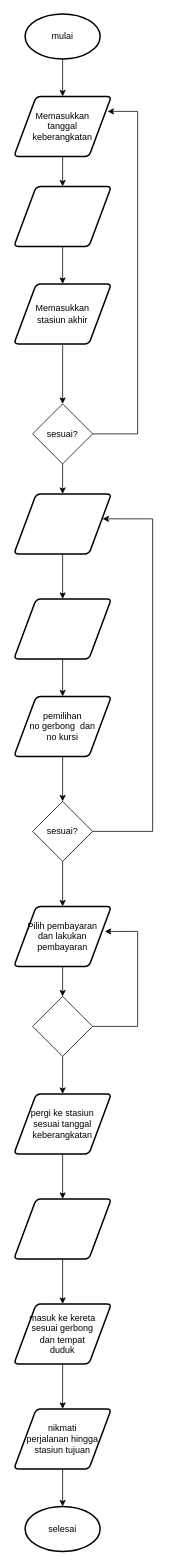
Some shapes in this 172 by 1565 pixel diagram are drawn without their labels. Here are the shapes that lost their labels. From the top down, the box of each, then its label:
(13, 185, 112, 247): Memasukkan stasiun awal
(13, 493, 112, 554): Pilihi kereta
(13, 598, 112, 659): Memasukkan data penumpang
(32, 996, 93, 1056): pembayaran selesai?
(13, 1198, 112, 1259): setak tiket
